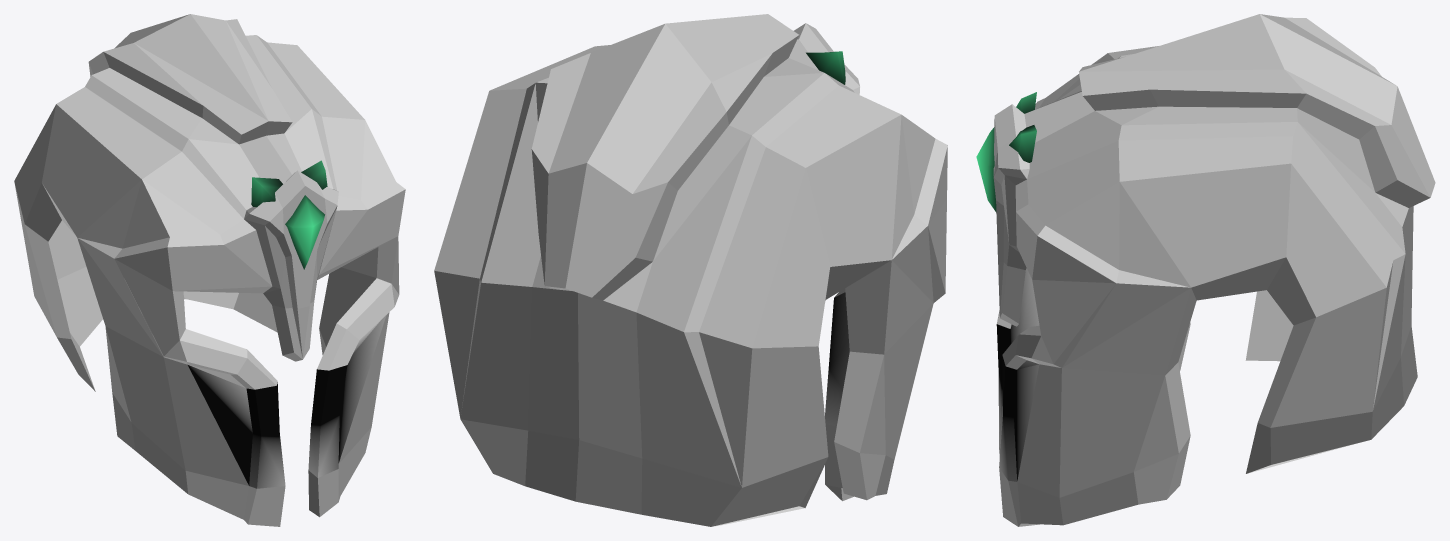
The model's file is Chr_Attach_Helmet_02.fbx.
3 views of the same model, side by side, from view 1: azimuth 30°, elevation 25°; view 2: azimuth 150°, elevation 25°; view 3: azimuth 270°, elevation 25° (orthographic). The views are drawn at different scales.
Parts seen in each view (by area): view 1: Chr_Attach_Helmet_02; view 2: Chr_Attach_Helmet_02; view 3: Chr_Attach_Helmet_02.
Part boxes in pixels (<box>): Chr_Attach_Helmet_02: <box>14,14,405,526</box>; Chr_Attach_Helmet_02: <box>434,14,947,526</box>; Chr_Attach_Helmet_02: <box>976,14,1435,526</box>.
Size of the model in its own units: 26.68 by 38.06 by 32.14.
